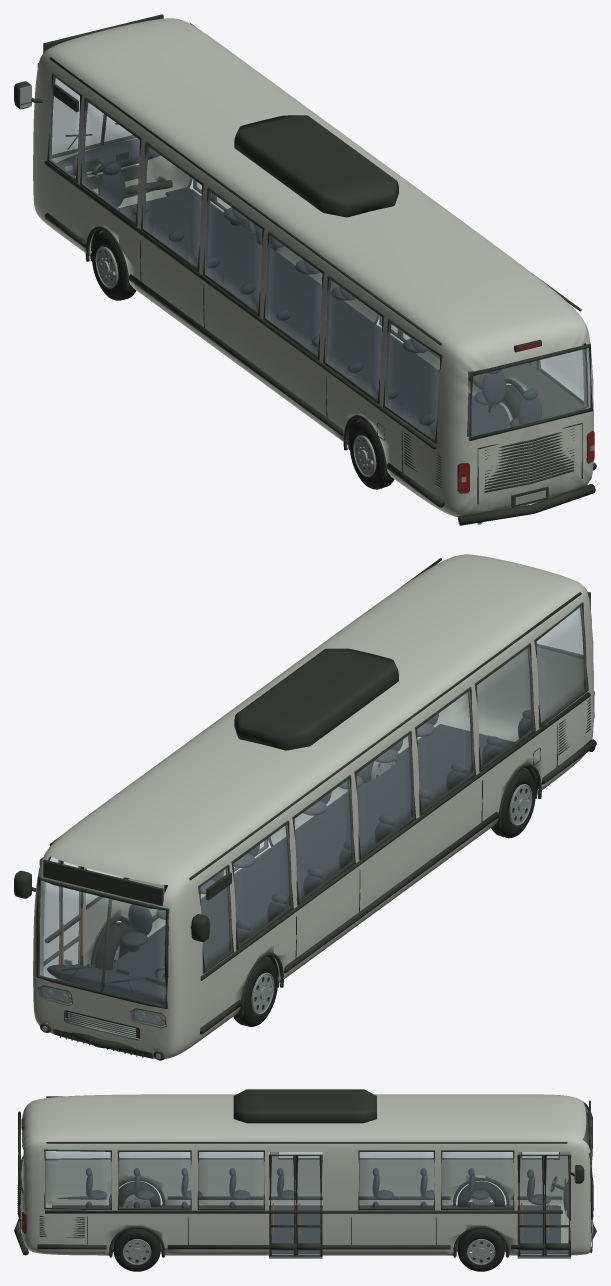
The model's file is tour-bus-mobile.glb.
3 views of the same model, one above another, from view 1: azimuth 30°, elevation 25°; view 2: azimuth 150°, elevation 25°; view 3: azimuth 270°, elevation 25° (orthographic). The views are drawn at different scales.
Parts seen in each view (by area): view 1: body-paint, body-glass.001, body-black.001, body-interior, body-steel.001, wheel-1-rubber.001, wheel-0-rubber.001, body-redlens, body-chrome; view 2: body-paint, body-glass.001, body-black.001, body-interior, body-chrome, entry-0-glass.001, body-steel.001, entry-1-glass.001, wheel-1-rubber.001, wheel-0-rubber.001, body-clearlens, wheel-2-rubber.001; view 3: body-paint, body-glass.001, body-black.001, body-interior, entry-0-glass.001, entry-1-glass.001, body-steel.001, wheel-3-rubber.001, wheel-2-rubber.001, entry-0-black.001, entry-1-black.001, wheel-0-rubber.001 (+3 smaller).
Part boxes in pixels (x1,y1,x2,y2): body-paint: (33,18,593,517); body-glass.001: (49,77,590,439); body-black.001: (14,14,596,525); body-interior: (57,139,541,438); body-steel.001: (96,221,543,523); wheel-1-rubber.001: (349,420,394,489); wheel-0-rubber.001: (92,231,136,300); body-redlens: (457,342,594,493); body-chrome: (20,85,545,524); body-paint: (33,554,593,1058); body-glass.001: (39,606,586,1006); body-black.001: (14,558,596,1060); body-interior: (47,710,531,1024); body-chrome: (31,848,269,1059); entry-0-glass.001: (44,857,60,979); body-steel.001: (113,761,530,1012); entry-1-glass.001: (62,862,80,964); wheel-1-rubber.001: (491,769,535,838); wheel-0-rubber.001: (233,957,277,1026); body-clearlens: (37,986,165,1058); wheel-2-rubber.001: (95,922,139,970); body-paint: (20,1094,591,1255); body-glass.001: (45,1151,591,1254); body-black.001: (14,1089,596,1262); body-interior: (52,1168,570,1253); entry-0-glass.001: (546,1156,568,1254); entry-1-glass.001: (519,1156,542,1254); body-steel.001: (123,1194,494,1263); wheel-3-rubber.001: (113,1228,160,1271); wheel-2-rubber.001: (457,1228,504,1271); entry-0-black.001: (544,1154,571,1256); entry-1-black.001: (517,1154,544,1256); wheel-0-rubber.001: (457,1181,504,1207).
Size of the model in its own units: 2.98 by 3.31 by 11.8.
Materials: 10 (1 with a texture image).
